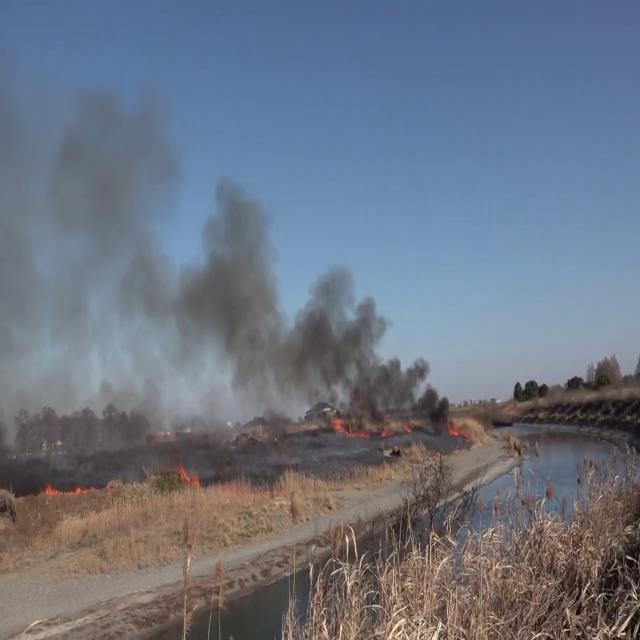Smoke: (159, 174, 445, 445), (0, 66, 184, 462)
